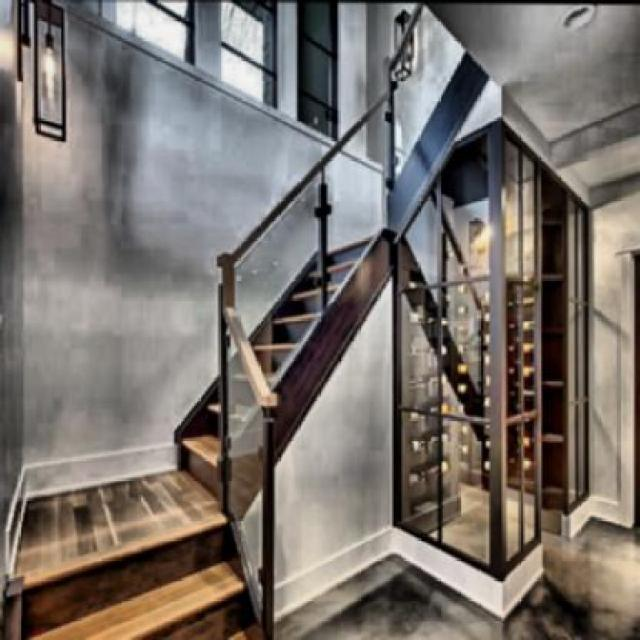stair: (130, 226, 384, 489), (0, 509, 272, 638)
